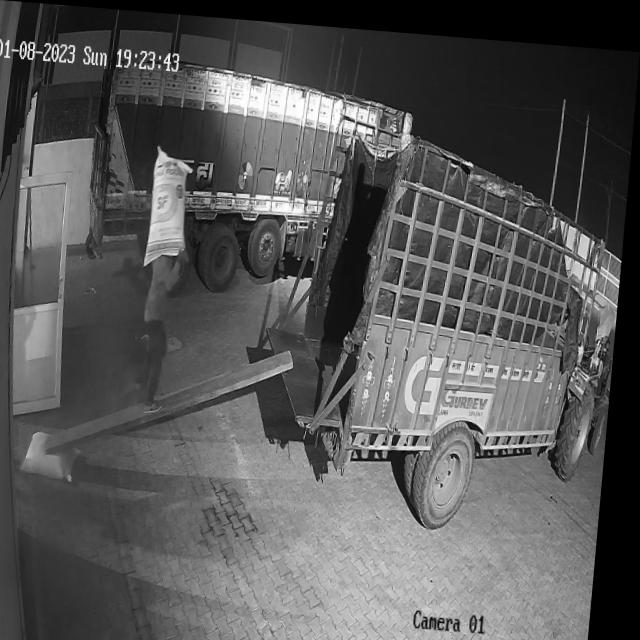sack: (146, 143, 196, 264), (29, 428, 88, 479)
